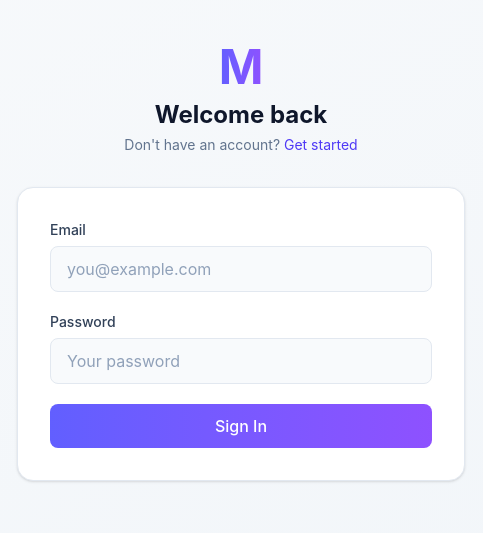
auth screens › sign-in shows the server message as is
Type "a@example.com" into the field labelled "Email" at (241, 269), box [50, 246, 432, 292]
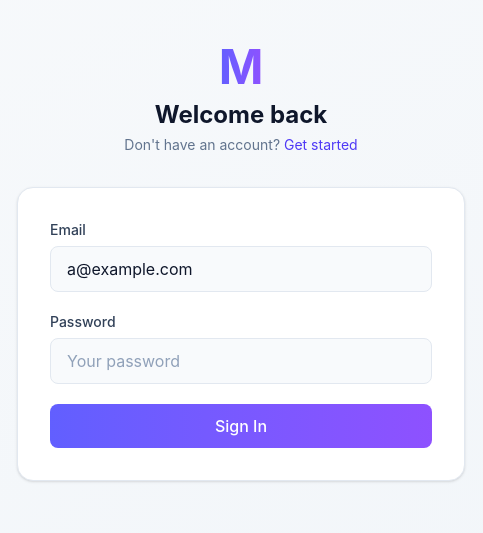
Type "nope" into the password field labelled "Password" at (241, 361), box [50, 338, 432, 384]
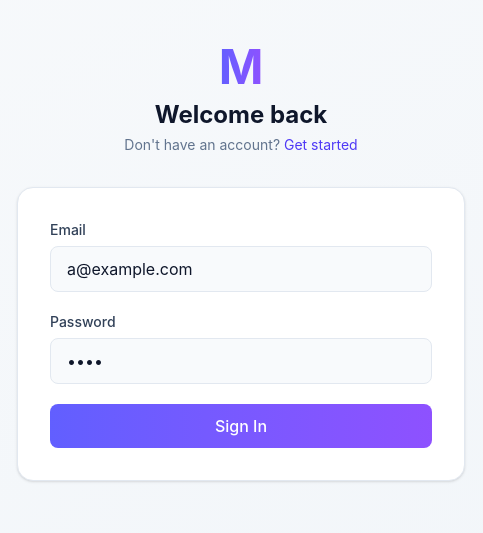
Click the button "Sign In" at (241, 426), box [50, 404, 432, 448]
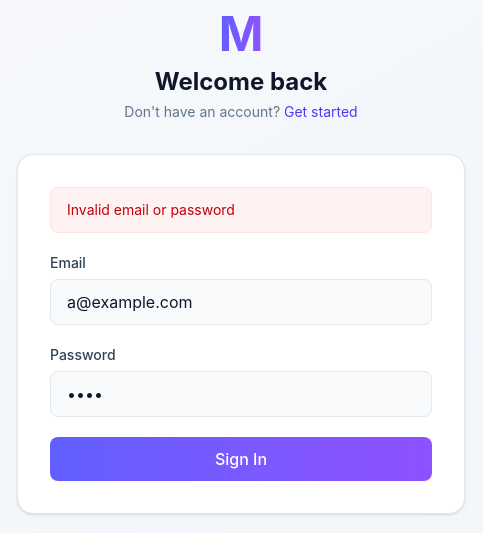
expect the message reads "Invalid email or password": met, box [67, 201, 235, 218]
